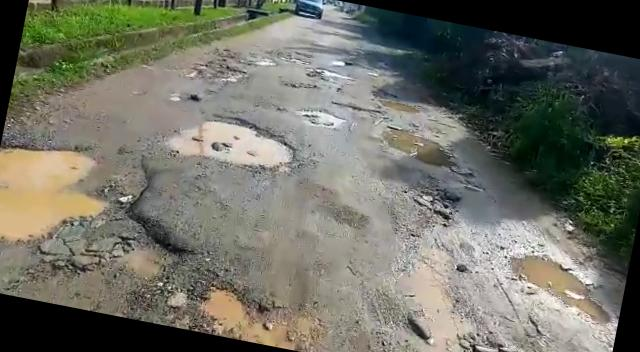pothole: (0, 130, 210, 288), (167, 270, 341, 352), (160, 104, 310, 178), (499, 248, 622, 330), (376, 125, 466, 174), (439, 332, 595, 352), (396, 179, 459, 226), (182, 54, 250, 89), (330, 98, 396, 120), (294, 104, 344, 131), (373, 93, 423, 115), (278, 76, 322, 94)
